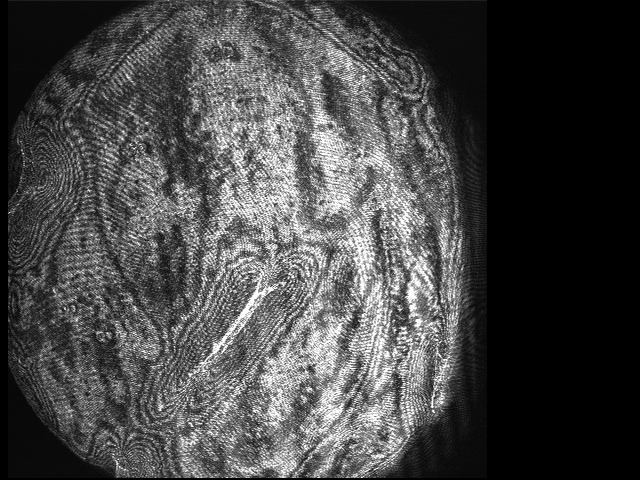plume: (138, 250, 314, 424), (8, 131, 86, 282)
